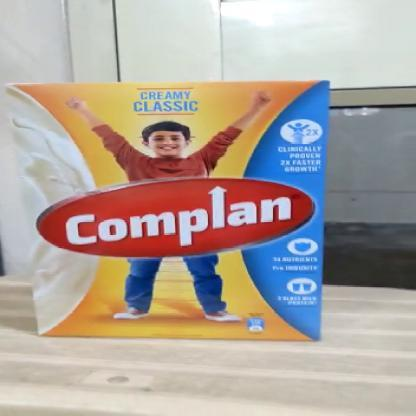Complan Classic Creme: (7, 82, 320, 328)
